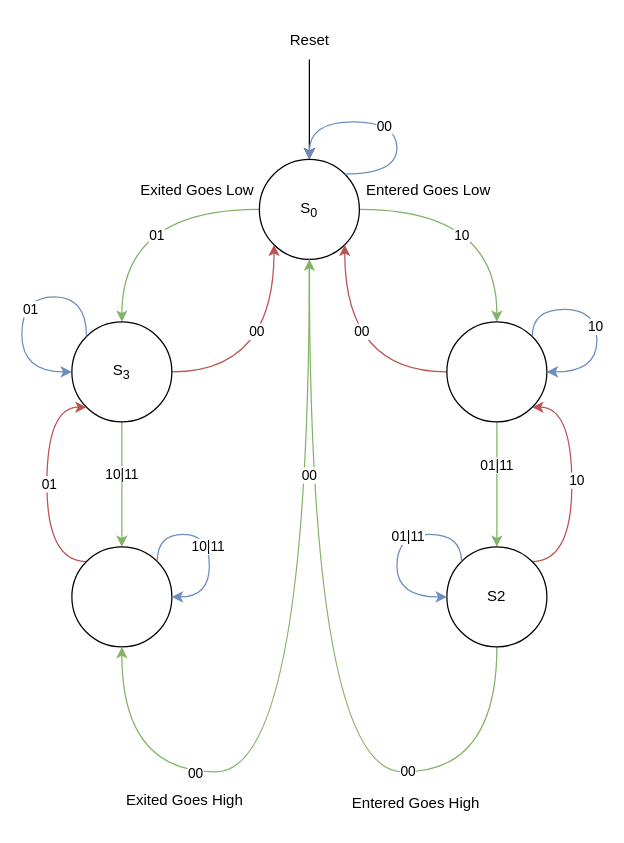
The diagram is 624 pixels wide and 843 high, and some of its shapes have lost their labels. Each missing label, with the centre of its shape:
"S 1" belongs at point (496, 371).
"S4" belongs at point (121, 596).
